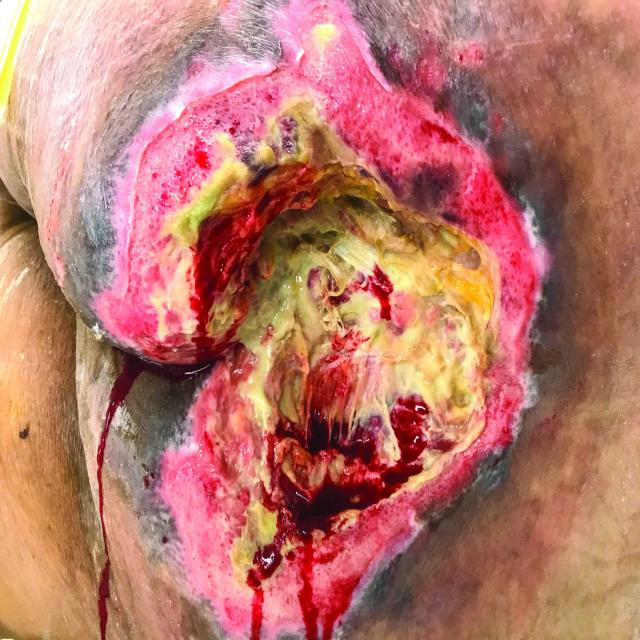stage-4: (98, 0, 544, 634)
